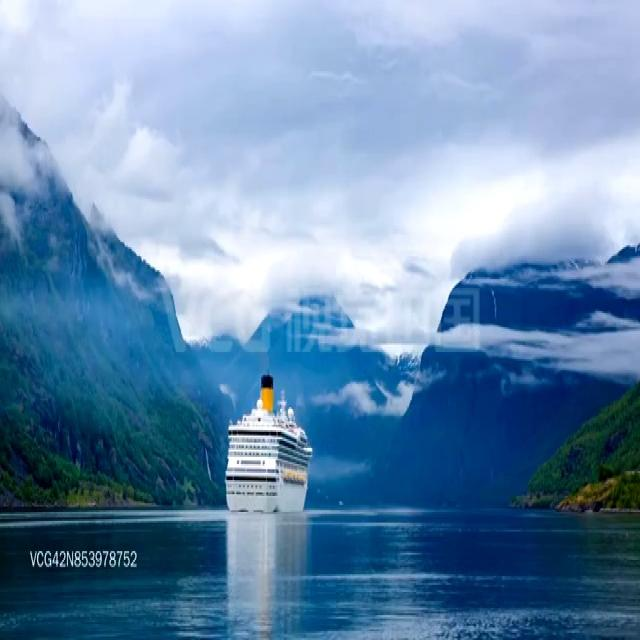passenger ship: (225, 368, 311, 515)
